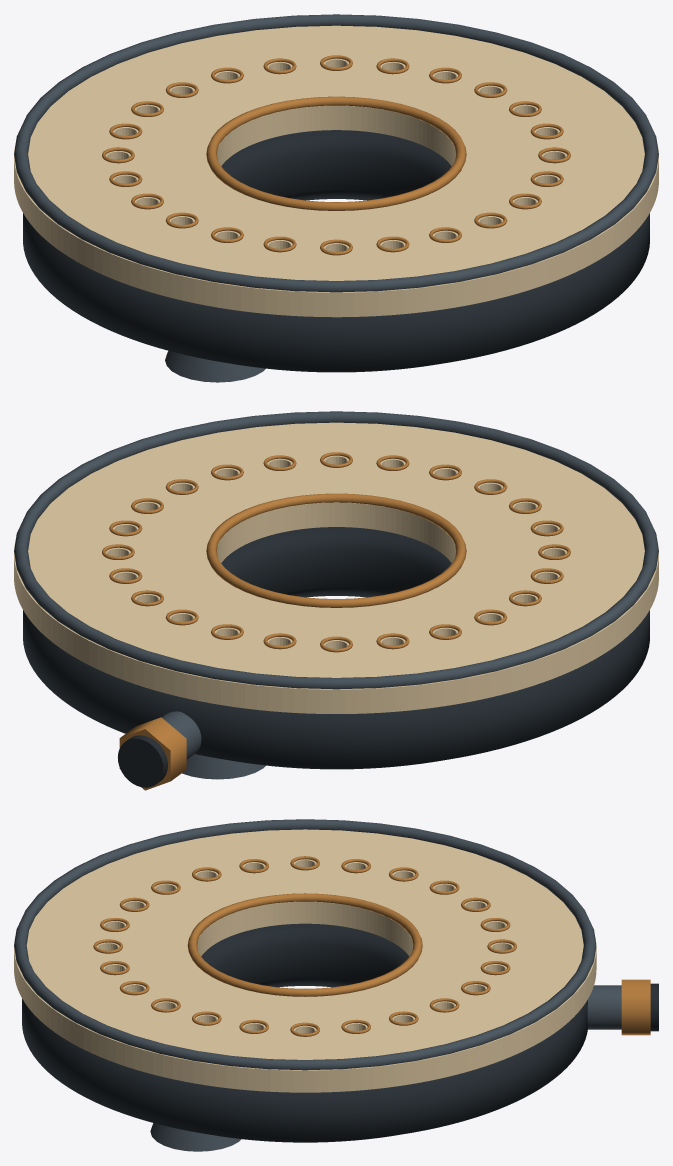
The model's file is annular-haloforge.glb.
The picture shows the model from 3 angles, top to bottom: view 1: azimuth 30°, elevation 25°; view 2: azimuth 150°, elevation 25°; view 3: azimuth 270°, elevation 25°; orthographic projection. The views are drawn at different scales.
Parts seen in each view (by area): view 1: Perforated annular deck — 24 open ports, Toroidal fuel plenum, Outer deck bead, Central opening bead, Foot 2; view 2: Perforated annular deck — 24 open ports, Toroidal fuel plenum, Outer deck bead, Central opening bead, Union collar, Hex inlet union, Foot 3, Hollow feed neck; view 3: Perforated annular deck — 24 open ports, Toroidal fuel plenum, Outer deck bead, Central opening bead, Hex inlet union, Foot 1, Hollow feed neck.
Part boxes in pixels (x1=…): Perforated annular deck — 24 open ports: x1=14, y1=25, x2=658, y2=317; Toroidal fuel plenum: x1=23, y1=130, x2=649, y2=372; Outer deck bead: x1=14, y1=14, x2=658, y2=292; Central opening bead: x1=206, y1=96, x2=466, y2=210; Foot 2: x1=165, y1=351, x2=265, y2=382; Perforated annular deck — 24 open ports: x1=14, y1=422, x2=658, y2=713; Toroidal fuel plenum: x1=23, y1=527, x2=649, y2=769; Outer deck bead: x1=14, y1=411, x2=658, y2=689; Central opening bead: x1=206, y1=493, x2=466, y2=607; Union collar: x1=117, y1=735, x2=167, y2=787; Hex inlet union: x1=119, y1=717, x2=186, y2=790; Foot 3: x1=182, y1=754, x2=265, y2=779; Hollow feed neck: x1=162, y1=711, x2=201, y2=759; Perforated annular deck — 24 open ports: x1=14, y1=829, x2=596, y2=1092; Toroidal fuel plenum: x1=22, y1=923, x2=587, y2=1142; Outer deck bead: x1=14, y1=819, x2=596, y2=1070; Central opening bead: x1=187, y1=893, x2=422, y2=996; Hex inlet union: x1=621, y1=979, x2=650, y2=1035; Foot 1: x1=150, y1=1123, x2=241, y2=1151; Hollow feed neck: x1=587, y1=985, x2=621, y2=1029.
Size of the model in its own units: 1.1 by 0.236 by 1.22.
